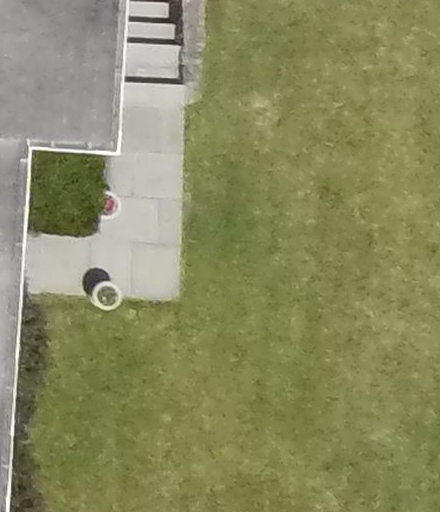flower pot: (84, 279, 124, 313), (88, 188, 125, 222)
